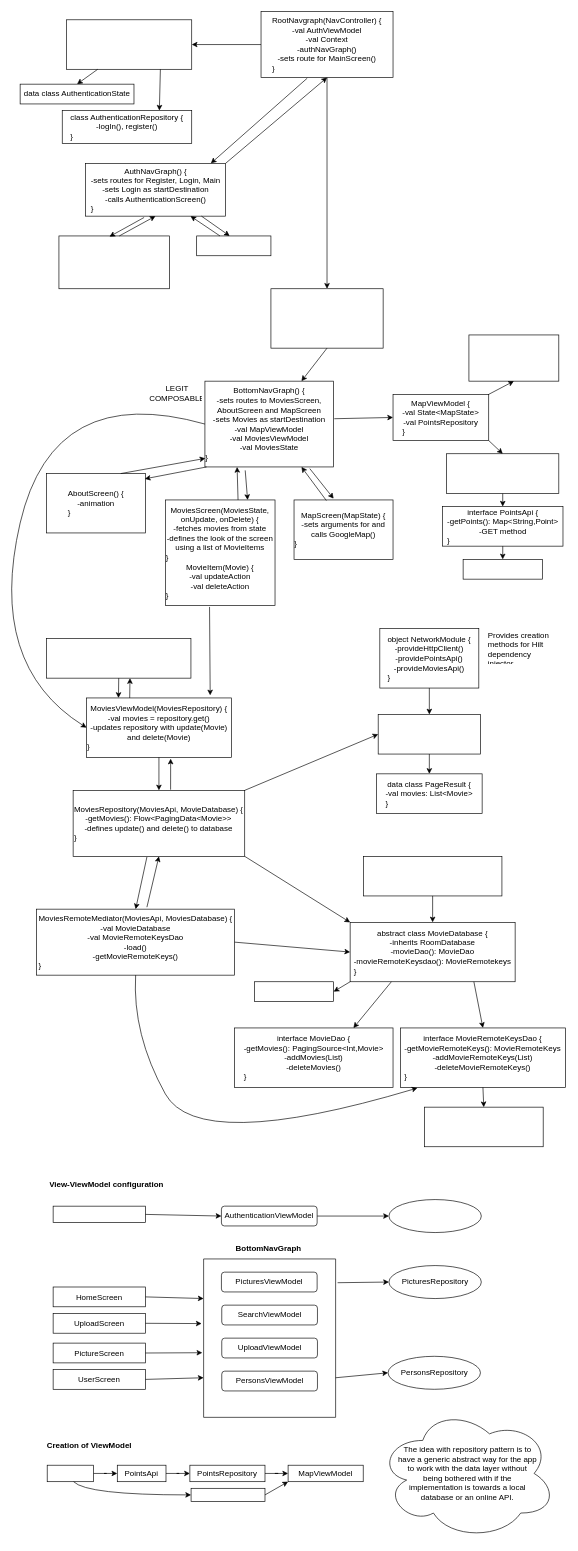
This 578x1551 diagram has some shape labels left out. Here are the shapes that lost their labels. From the top down, the centre of each, then its label:
point 129,44: AuthViewModel { -AuthenticationState() -defines verification functions }
point 113,262: AuthenticationScreen() { -takes a bunch of callbacks -verifies inputs }
point 233,245: class AuthScreen
point 326,318: MainScreen() { Scaffold(BottomBar) { BottomNavGraph() } }
point 513,357: MapState { -val points: List<Point> -val loading }
point 502,473: class PointsRepository { -getPoints(): List<Point> -(turns Map into List) }
point 502,569: data class Point
point 118,658: MoviesState(MoviesViewModel) { -val movies = MoviesViewModel.movies }
point 429,734: interface MoviesApi { -getMovies(): PageResult }
point 432,876: class DatabaseModule { -provideDatabase(): MovieDatabase }
point 294,991: data class Movie
point 483,1126: data class MovieRemoteKeys { -val id, prevPage, nextPage }
point 99,1214: AuthenticationScreen
point 434,1216: AuthenticationRepository
point 70,1473: Point
point 227,1495: MapState
